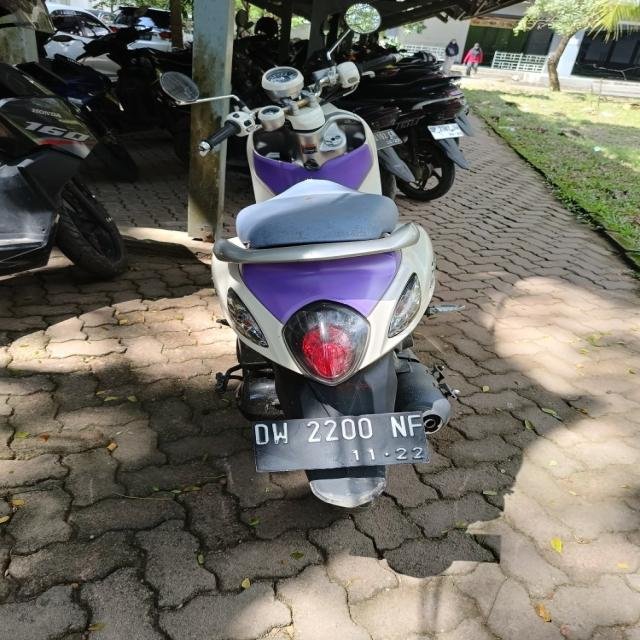plates: (248, 406, 420, 480)
